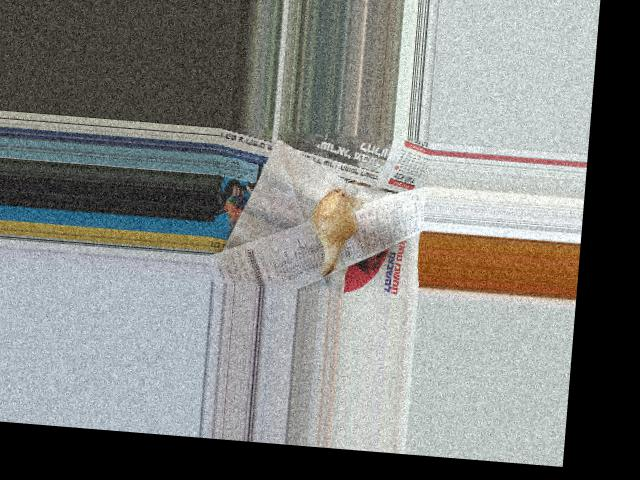onion: (311, 191, 356, 256)
